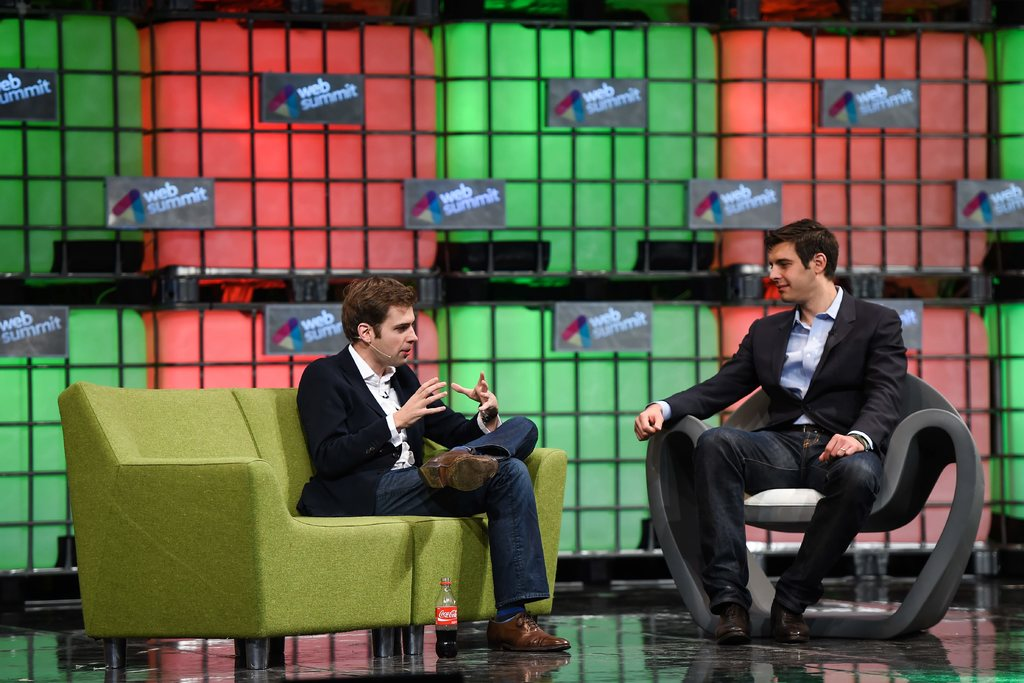Human_hand: (448, 369, 500, 422), (398, 379, 447, 429), (817, 433, 867, 466), (630, 403, 665, 442)
